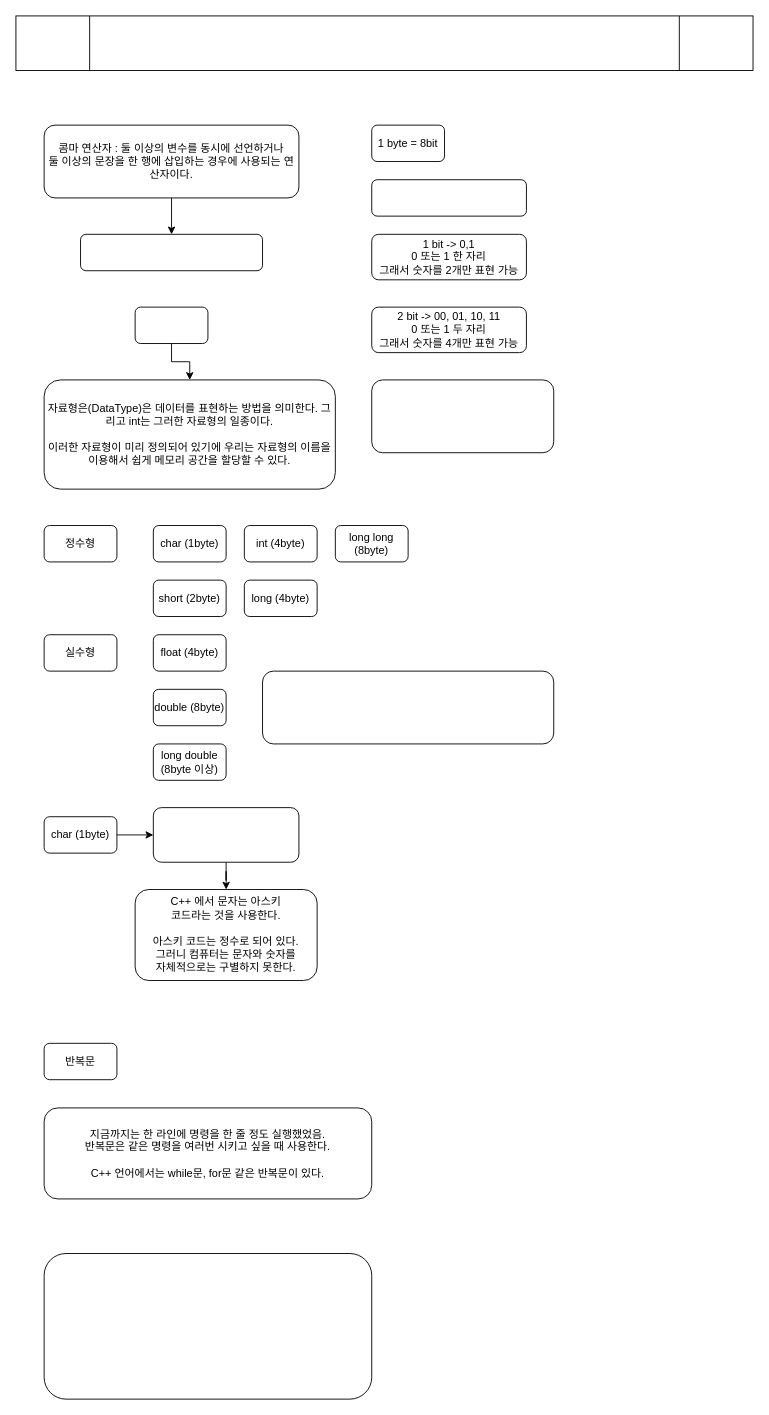
This 769x1415 diagram has some shape labels left out. The shapes that lost their labels are listed below. From the top down, each one's centre as x and y in pixels, then its label:
At [384,43]: "자료형(Daya Type)".
At [448,197]: "bit는 0과 1 단 두개만 나타내는 단위".
At [171,252]: "int number1, number2;".
At [171,325]: "자료형".
At [462,416]: "3 bit -> 000, 001, 010, 011, 100, 101, 110, 111 0 또는 1 세 자리 그래서 숫자를 2^3개만 표현 가능".
At [408,707]: "책이나 블로그에 나와있는 자료형 크기 말고, 내 컴퓨터에 맞는 자료형 크기를 직접 알아보고 싶은 경우에 sizeof()라는 함수를 사용한다.".
At [225,834]: "문자 1글자를 받기 위한 자료형이다.".
At [207,1326]: "while문 사용법 while(조건식) { //조건식이 참이면 스코프 안의 내용을 실행한다. //조건식이 거짓이면 스코프 밖으로 빠져나간다. }".
